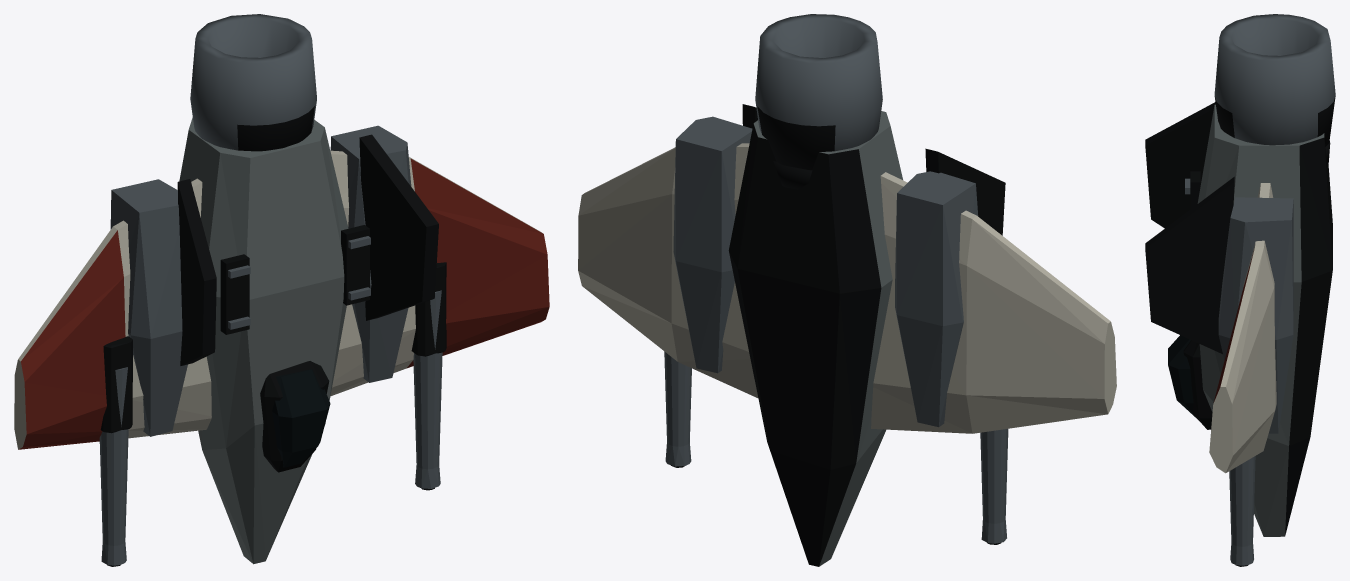
Rendered from enemigo_abeja_lod.obj.
The picture shows the model from 3 angles, left to right: view 1: azimuth 30°, elevation 25°; view 2: azimuth 150°, elevation 25°; view 3: azimuth 270°, elevation 25°; orthographic projection. The views are drawn at different scales.
Parts seen in each view (by area): view 1: enemigo_abeja_Fuselaje_LOD, enemigo_abeja_Ala_1_LOD, enemigo_abeja_Ala_-1_LOD, enemigo_abeja_Reactor_Tobera_LOD, enemigo_abeja_Refuerzo_1_LOD, enemigo_abeja_Aleta_-1_LOD, enemigo_abeja_Refuerzo_-1_LOD, enemigo_abeja_Aleta_1_LOD, enemigo_abeja_Sensor_Cristal_LOD, enemigo_abeja_Arma_1_Canon_LOD, enemigo_abeja_Arma_-1_Canon_LOD, enemigo_abeja_Arma_1_Cuna_LOD (+4 smaller); view 2: enemigo_abeja_Fuselaje_LOD, enemigo_abeja_Ala_1_LOD, enemigo_abeja_Ala_-1_LOD, enemigo_abeja_Reactor_Tobera_LOD, enemigo_abeja_Refuerzo_1_LOD, enemigo_abeja_Refuerzo_-1_LOD, enemigo_abeja_Arma_1_Canon_LOD, enemigo_abeja_Arma_-1_Canon_LOD, enemigo_abeja_Aleta_1_LOD, enemigo_abeja_Reactor_Collar_LOD; view 3: enemigo_abeja_Fuselaje_LOD, enemigo_abeja_Reactor_Tobera_LOD, enemigo_abeja_Ala_-1_LOD, enemigo_abeja_Aleta_-1_LOD, enemigo_abeja_Refuerzo_-1_LOD, enemigo_abeja_Aleta_1_LOD, enemigo_abeja_Arma_-1_Canon_LOD, enemigo_abeja_Sensor_Cristal_LOD, enemigo_abeja_Sensor_Borde_LOD, enemigo_abeja_Rejilla_1_Hueco_LOD.
Boxes of the visible parts, bbox=[...] form: enemigo_abeja_Fuselaje_LOD: bbox=[179, 117, 348, 564]; enemigo_abeja_Ala_1_LOD: bbox=[14, 178, 211, 449]; enemigo_abeja_Ala_-1_LOD: bbox=[330, 150, 549, 396]; enemigo_abeja_Reactor_Tobera_LOD: bbox=[190, 14, 316, 151]; enemigo_abeja_Refuerzo_1_LOD: bbox=[110, 179, 187, 436]; enemigo_abeja_Aleta_-1_LOD: bbox=[359, 134, 438, 320]; enemigo_abeja_Refuerzo_-1_LOD: bbox=[330, 125, 411, 382]; enemigo_abeja_Aleta_1_LOD: bbox=[177, 179, 216, 365]; enemigo_abeja_Sensor_Cristal_LOD: bbox=[272, 369, 330, 467]; enemigo_abeja_Arma_1_Canon_LOD: bbox=[99, 367, 128, 565]; enemigo_abeja_Arma_-1_Canon_LOD: bbox=[413, 290, 442, 488]; enemigo_abeja_Arma_1_Cuna_LOD: bbox=[100, 336, 132, 433]; enemigo_abeja_Fuselaje_LOD: bbox=[728, 111, 902, 566]; enemigo_abeja_Ala_1_LOD: bbox=[871, 172, 1116, 433]; enemigo_abeja_Ala_-1_LOD: bbox=[578, 143, 758, 397]; enemigo_abeja_Reactor_Tobera_LOD: bbox=[755, 14, 882, 170]; enemigo_abeja_Refuerzo_1_LOD: bbox=[895, 171, 978, 427]; enemigo_abeja_Refuerzo_-1_LOD: bbox=[673, 116, 752, 373]; enemigo_abeja_Arma_1_Canon_LOD: bbox=[980, 429, 1008, 543]; enemigo_abeja_Arma_-1_Canon_LOD: bbox=[664, 351, 691, 466]; enemigo_abeja_Aleta_1_LOD: bbox=[925, 148, 1005, 235]; enemigo_abeja_Reactor_Collar_LOD: bbox=[773, 161, 812, 189]; enemigo_abeja_Fuselaje_LOD: bbox=[1197, 104, 1332, 536]; enemigo_abeja_Reactor_Tobera_LOD: bbox=[1214, 14, 1335, 146]; enemigo_abeja_Ala_-1_LOD: bbox=[1209, 183, 1276, 473]; enemigo_abeja_Aleta_-1_LOD: bbox=[1145, 176, 1234, 354]; enemigo_abeja_Refuerzo_-1_LOD: bbox=[1218, 197, 1293, 433]; enemigo_abeja_Aleta_1_LOD: bbox=[1145, 102, 1215, 228]; enemigo_abeja_Arma_-1_Canon_LOD: bbox=[1229, 456, 1255, 565]; enemigo_abeja_Sensor_Cristal_LOD: bbox=[1168, 335, 1198, 420]; enemigo_abeja_Sensor_Borde_LOD: bbox=[1183, 340, 1212, 429]; enemigo_abeja_Rejilla_1_Hueco_LOD: bbox=[1190, 171, 1200, 209].
Size of the model in its own units: 1 by 0.95 by 0.33.
